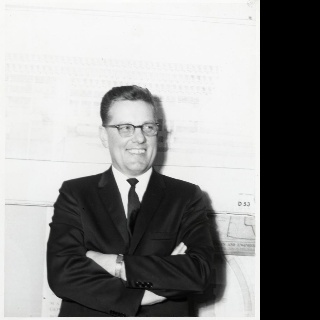without_mask: (105, 100, 159, 176)
